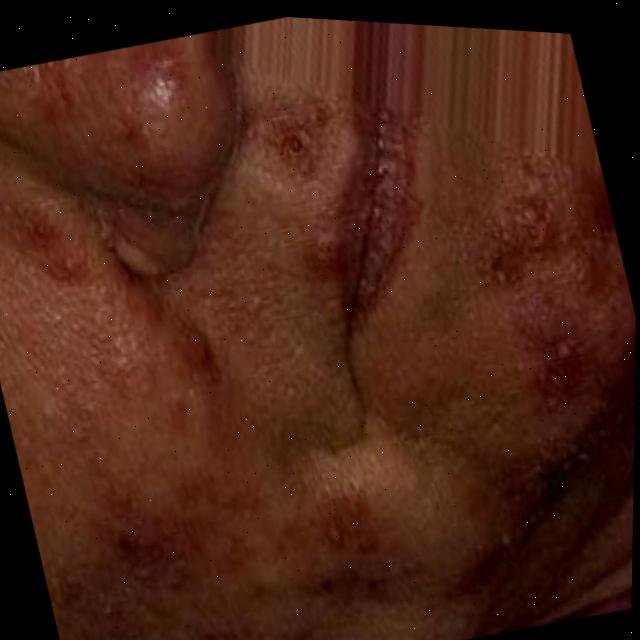Rosacea: (0, 26, 201, 190), (483, 184, 627, 392), (0, 205, 86, 274)
